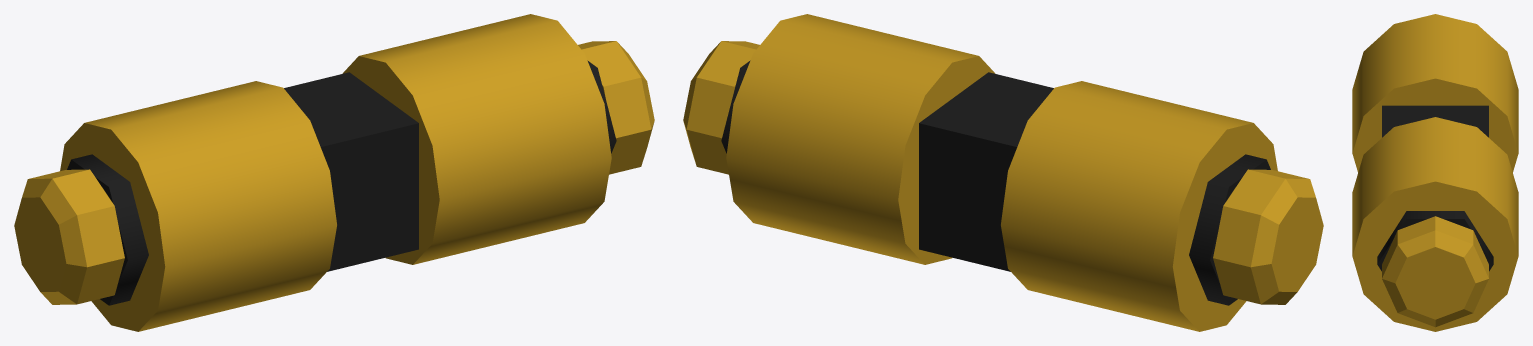
The model's file is mk1_head.obj.
3 views of the same model, side by side, from view 1: azimuth 30°, elevation 25°; view 2: azimuth 150°, elevation 25°; view 3: azimuth 270°, elevation 25° (orthographic). The views are drawn at different scales.
Visible parts, largest first — view 1: mk1_head; view 2: mk1_head; view 3: mk1_head.
Boxes of the visible parts, x1,y1,x2,y2 form: mk1_head: [14, 14, 654, 331]; mk1_head: [683, 14, 1323, 331]; mk1_head: [1352, 14, 1518, 331].
Bounding box in the file's own units: 3.9 × 1.24 × 1.24.
